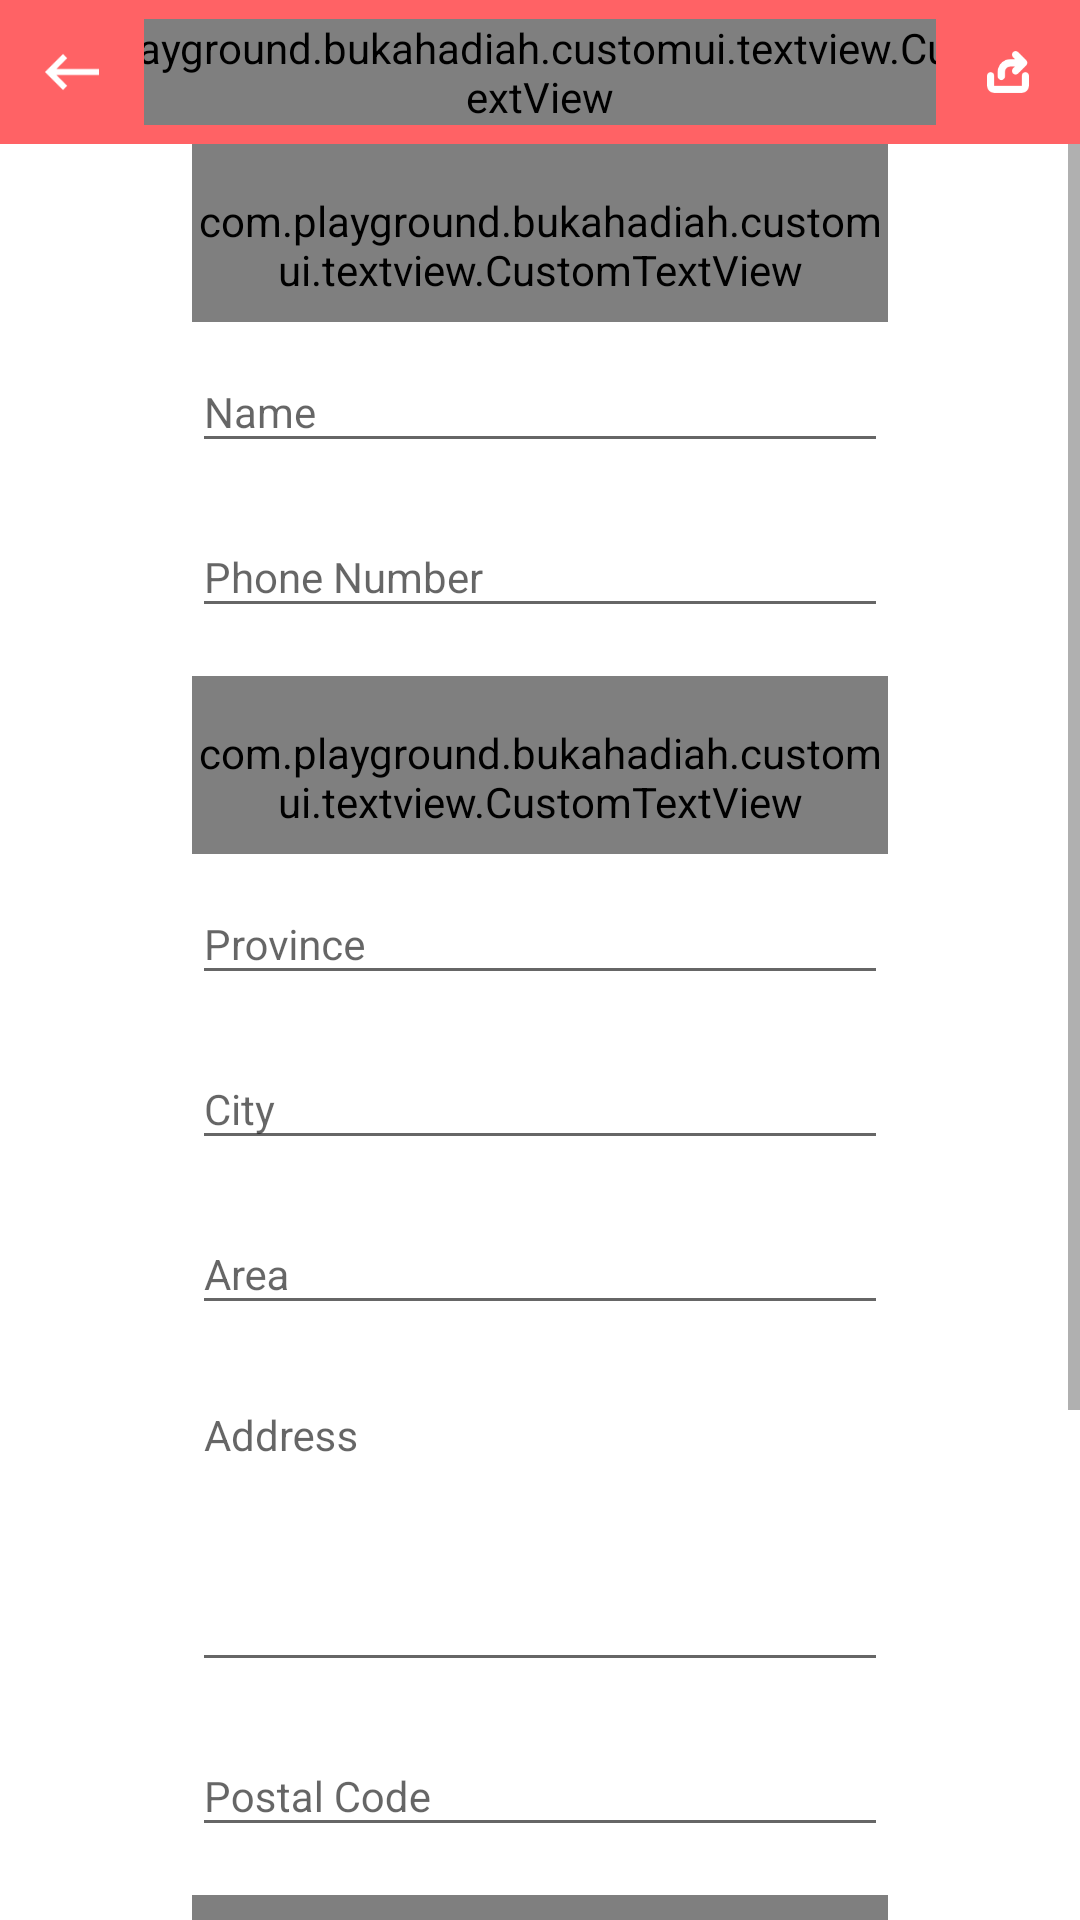

Screen size 1080×1920. Icon name, then its center in pixels as [x,y]:
back: [72,72]
send post: [1008,72]
